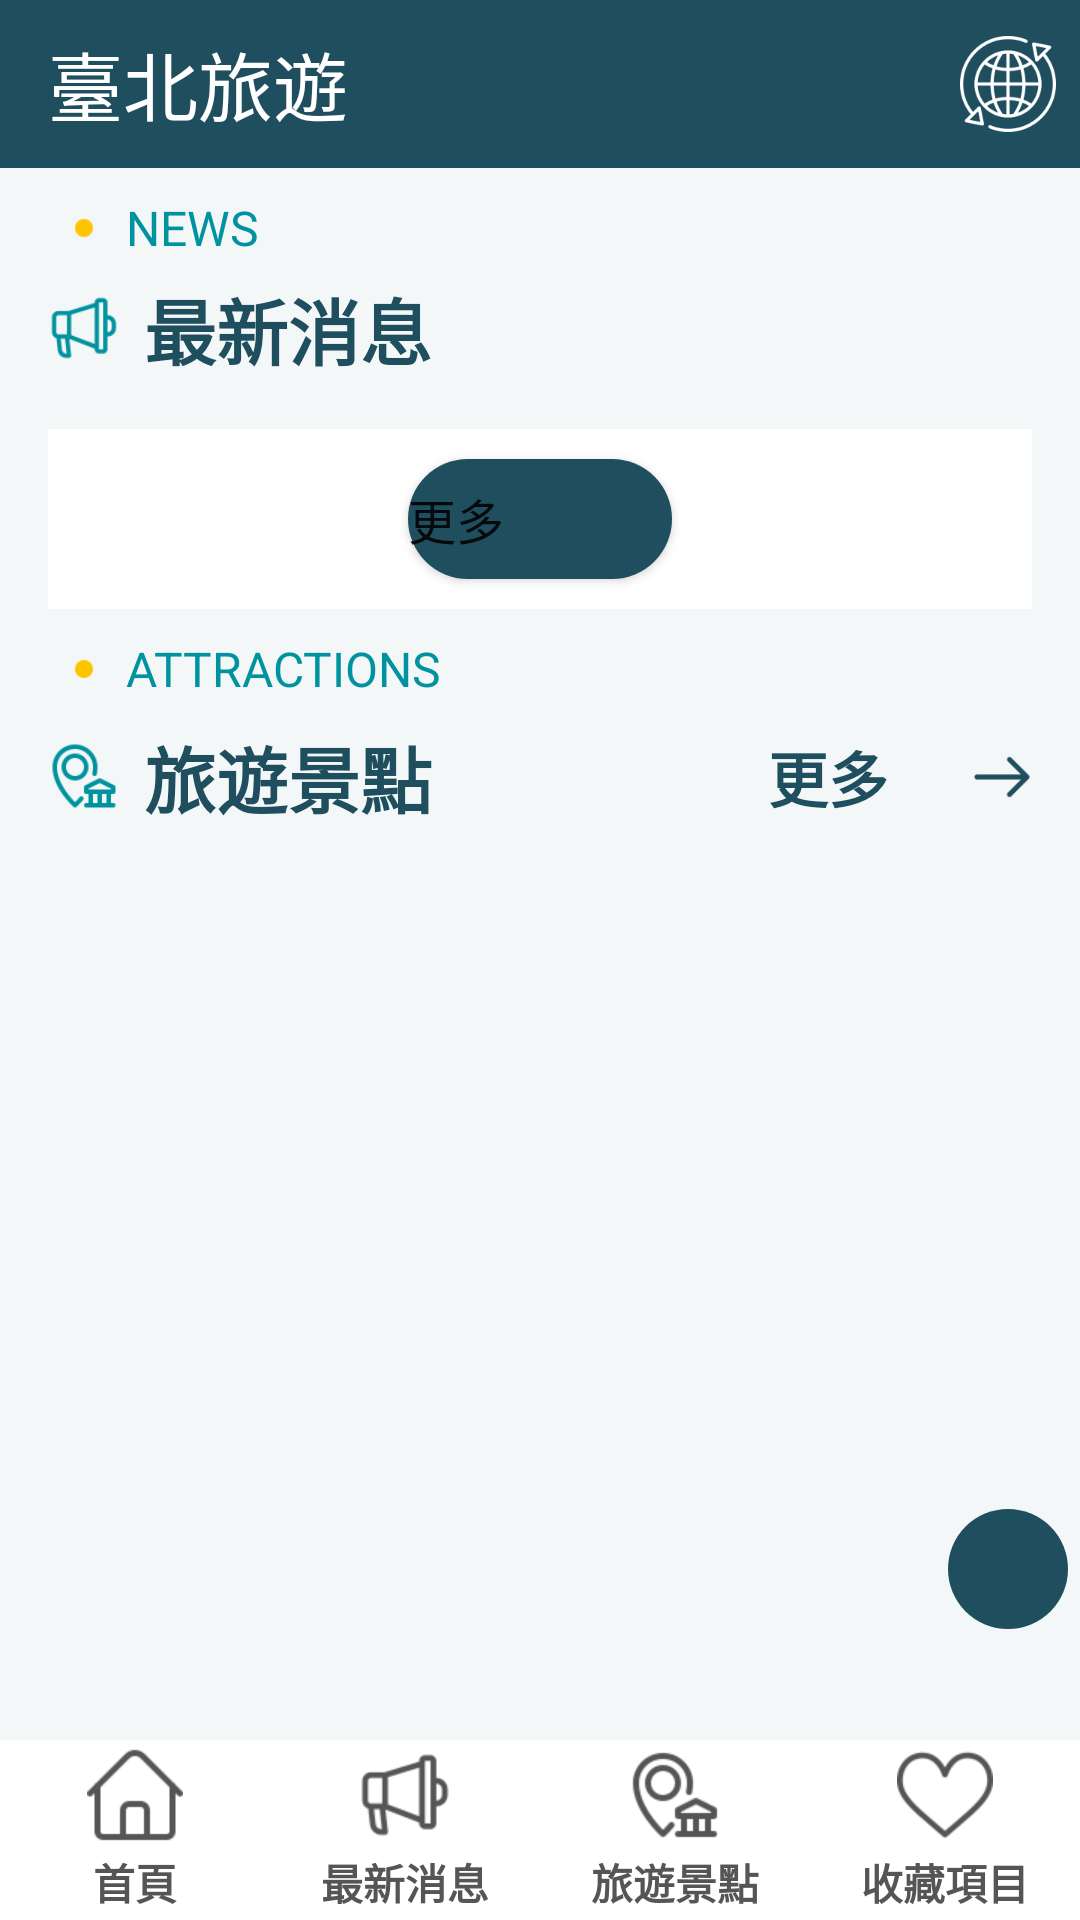

Screen size 1080px x 1920px. Icon name, then its box in pixels as (x1, y1, x2, y2):
heart: (897, 1752, 993, 1838)
language: (960, 36, 1056, 132)
